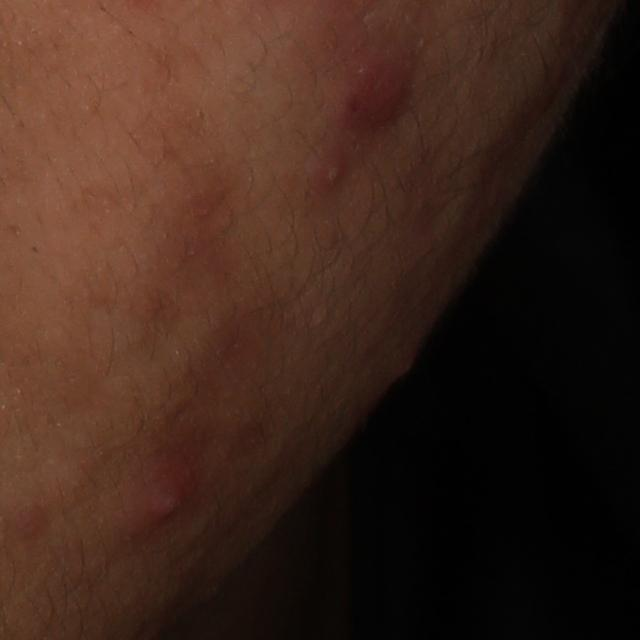papule: (338, 52, 420, 136)
pustule: (127, 456, 191, 525)
